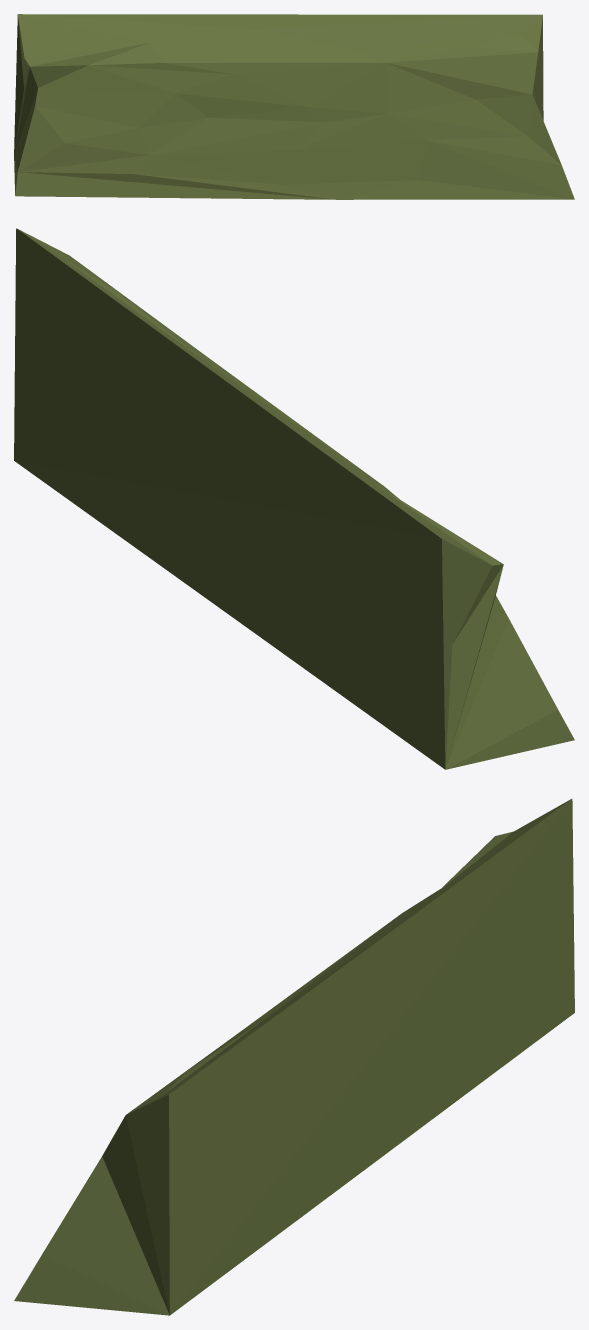
Rendered from ground_36.fbx.
The picture shows the model from 3 angles, top to bottom: view 1: azimuth 30°, elevation 25°; view 2: azimuth 150°, elevation 25°; view 3: azimuth 270°, elevation 25°; orthographic projection. The views are drawn at different scales.
Parts seen in each view (by area): view 1: ground_36; view 2: ground_36; view 3: ground_36.
Part boxes in pixels (x1,y1,x2,y2): ground_36: (14,14,574,199); ground_36: (14,228,574,769); ground_36: (14,799,574,1315).
Size of the model in its own units: 5.12 by 1.61 by 3.7.
